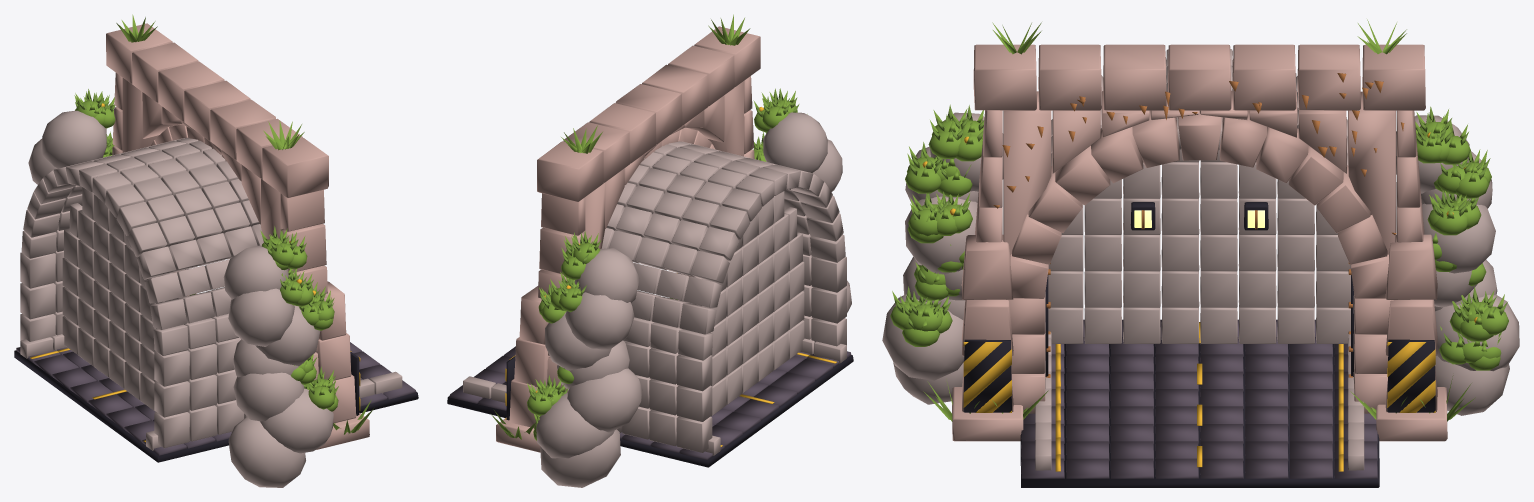
The model's file is bld.tunnel-portal.lod1.glb.
The picture shows the model from 3 angles, left to right: view 1: azimuth 30°, elevation 25°; view 2: azimuth 150°, elevation 25°; view 3: azimuth 270°, elevation 25°; orthographic projection. The views are drawn at different scales.
Parts seen in each view (by area): view 1: roof, body, interior; view 2: roof, body, interior; view 3: interior, body, roof.
Part boxes in pixels (left/top/right/bottom): roof: left=21, top=23, right=328, bottom=355; body: left=28, top=14, right=374, bottom=487; interior: left=14, top=187, right=418, bottom=462; roof: left=537, top=26, right=845, bottom=360; body: left=491, top=14, right=851, bottom=487; interior: left=447, top=191, right=853, bottom=467; interior: left=1020, top=150, right=1379, bottom=487; body: left=882, top=19, right=1519, bottom=441; roof: left=973, top=44, right=1425, bottom=298.
Size of the model in its own units: 7.3 by 8.64 by 12.39.
